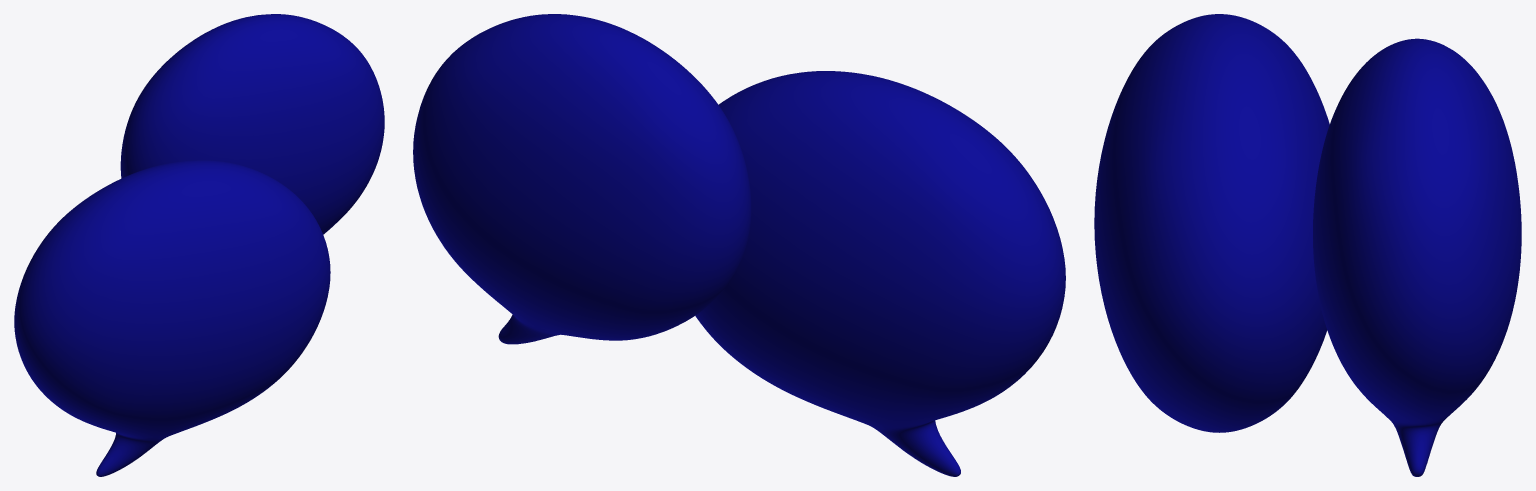
Rendered from chat-bubble.glb.
The picture shows the model from 3 angles, left to right: view 1: azimuth 30°, elevation 25°; view 2: azimuth 150°, elevation 25°; view 3: azimuth 270°, elevation 25°; orthographic projection. The views are drawn at different scales.
Visible parts, largest first — view 1: Chat-Bubble-2; view 2: Chat-Bubble-2; view 3: Chat-Bubble-2.
Part boxes in pixels (bbox=[...]): Chat-Bubble-2: bbox=[14, 14, 384, 476]; Chat-Bubble-2: bbox=[413, 14, 1065, 476]; Chat-Bubble-2: bbox=[1094, 14, 1521, 476].
Size of the model in its own units: 1.97 by 1.55 by 1.2.
